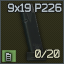P226 9x19 20-round extended magazine: (0, 0, 64, 64)
